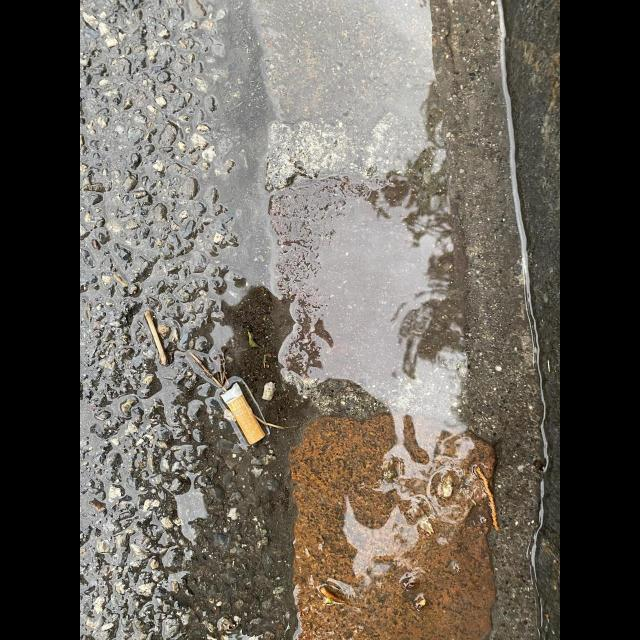cigarette: (220, 381, 266, 446)
